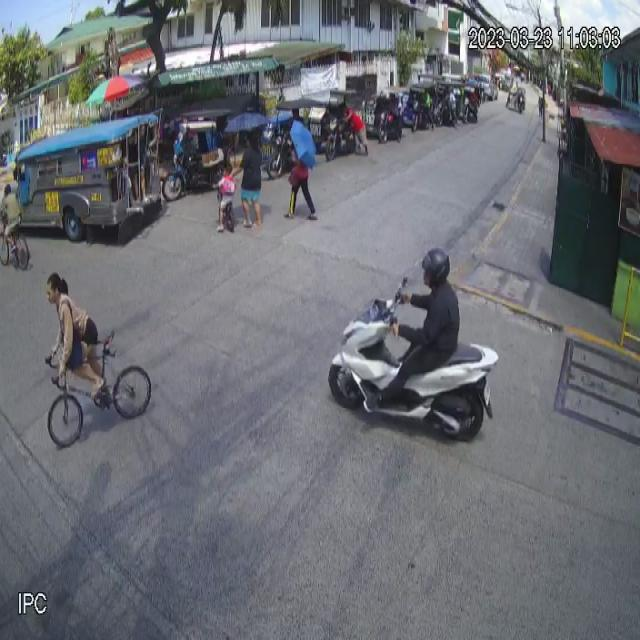Jeep: (13, 106, 164, 245)
Motorcycle: (326, 277, 499, 444)
